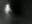person: (5, 4, 13, 16)
